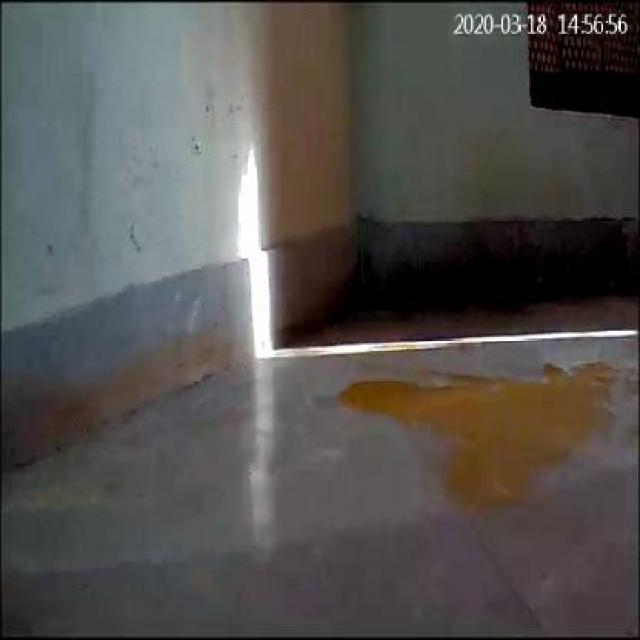spill: (332, 368, 608, 520)
